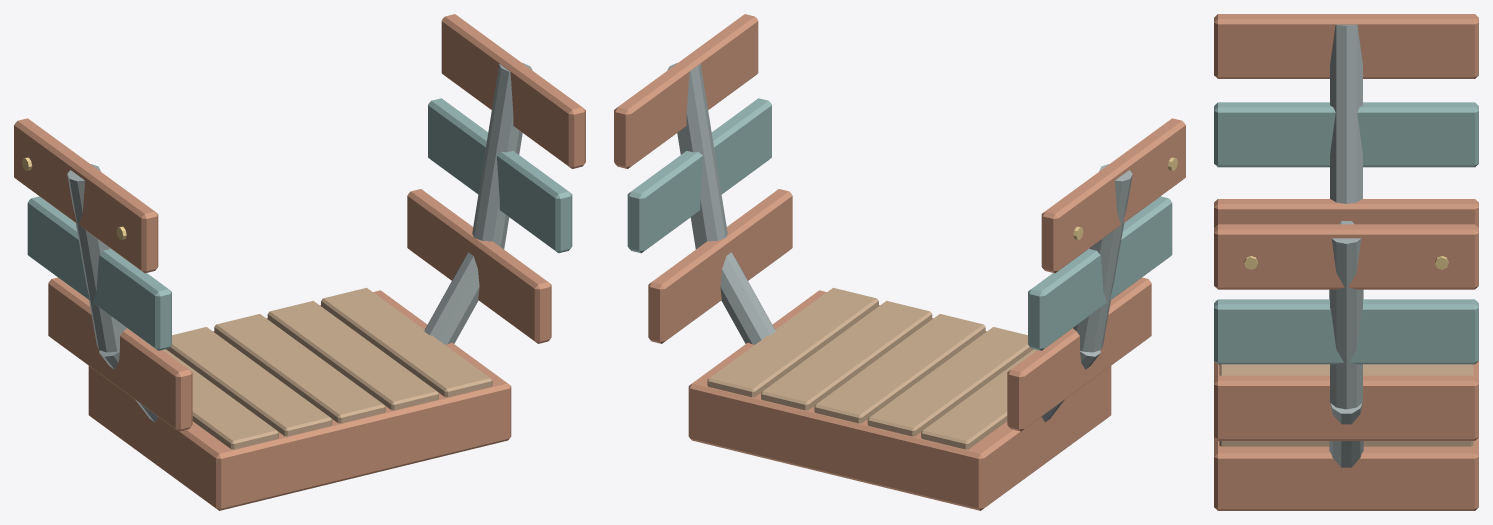
Rendered from wreck_rib_2m.glb.
3 views of the same model, side by side, from view 1: azimuth 30°, elevation 25°; view 2: azimuth 150°, elevation 25°; view 3: azimuth 270°, elevation 25° (orthographic).
Visible parts, largest first — view 1: wreck_rib_2m; view 2: wreck_rib_2m; view 3: wreck_rib_2m.
Part boxes in pixels (x1,y1,x2,y2): wreck_rib_2m: (14, 14, 585, 510); wreck_rib_2m: (614, 14, 1185, 510); wreck_rib_2m: (1214, 14, 1478, 510).
Bounding box in the file's own units: 2.03 × 1.33 × 1.
